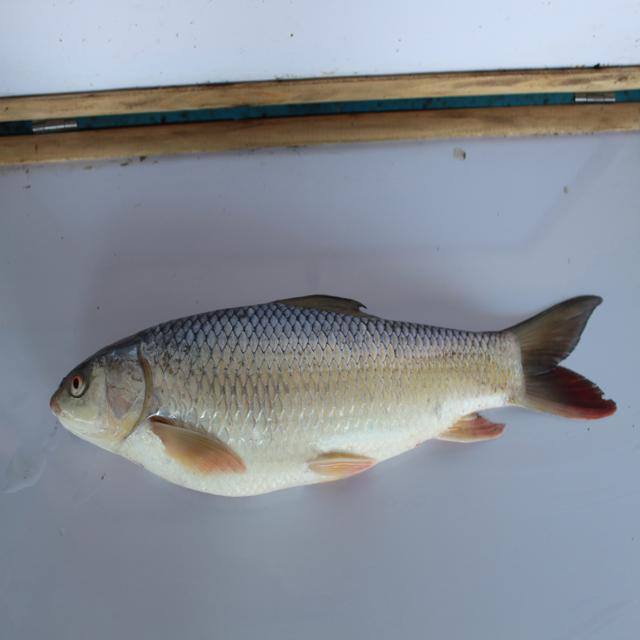Mori: (32, 278, 627, 506)
